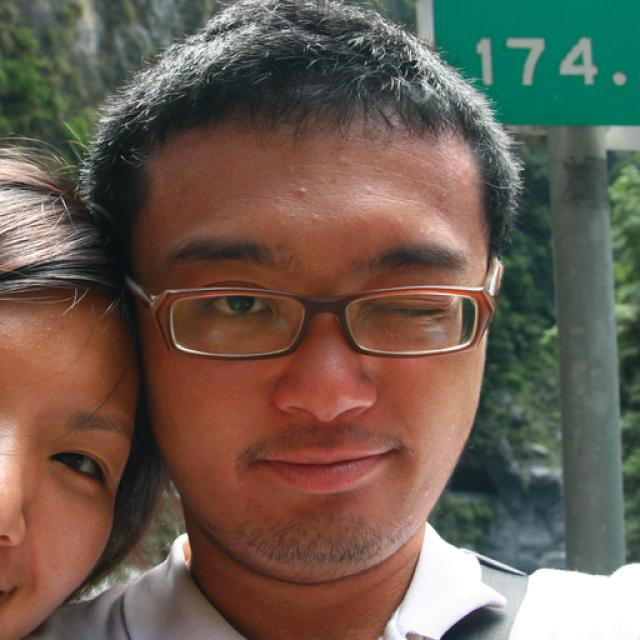Acne: (327, 138, 357, 174), (287, 181, 316, 202), (414, 482, 436, 508), (417, 223, 439, 245), (306, 207, 324, 233), (359, 180, 375, 202)
